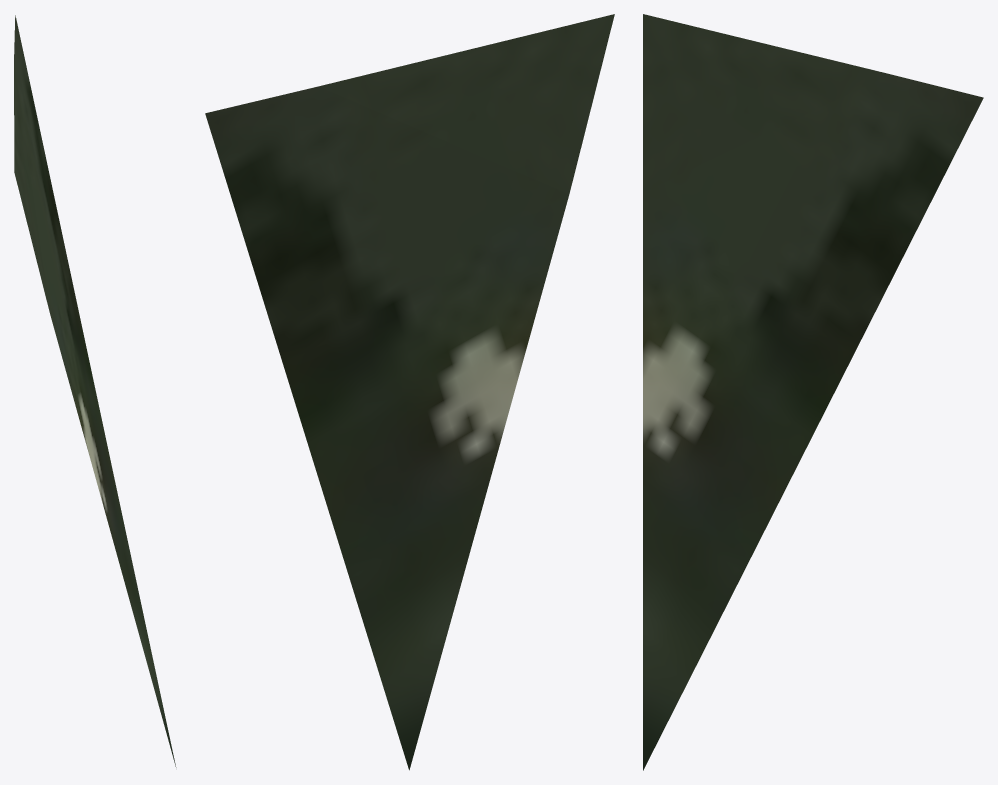
The picture shows the model from 3 angles, left to right: view 1: azimuth 30°, elevation 25°; view 2: azimuth 150°, elevation 25°; view 3: azimuth 270°, elevation 25°; orthographic projection. The views are drawn at different scales.
Bounding box in the file's own units: 0.1353 × 0.5077 × 0.2329.
Materials: 1 (1 with a texture image).
